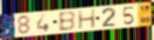2: (101, 7, 118, 29)
4: (36, 13, 52, 33)
5: (122, 5, 136, 26)
8: (17, 15, 32, 35)
B: (58, 11, 77, 33)
H: (77, 8, 97, 30)
